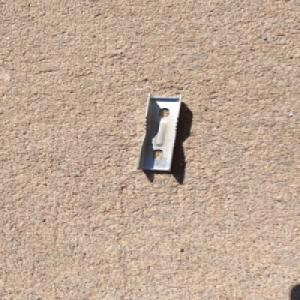ClampPart: (133, 91, 184, 173)
